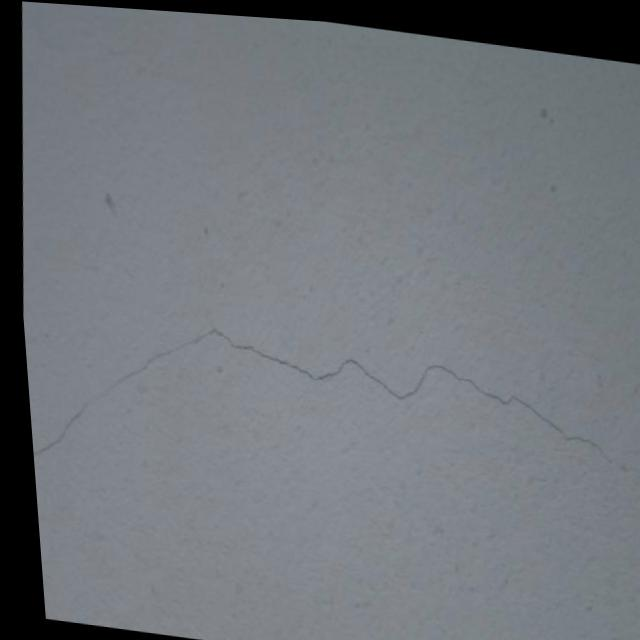Crack: (17, 296, 628, 541)
